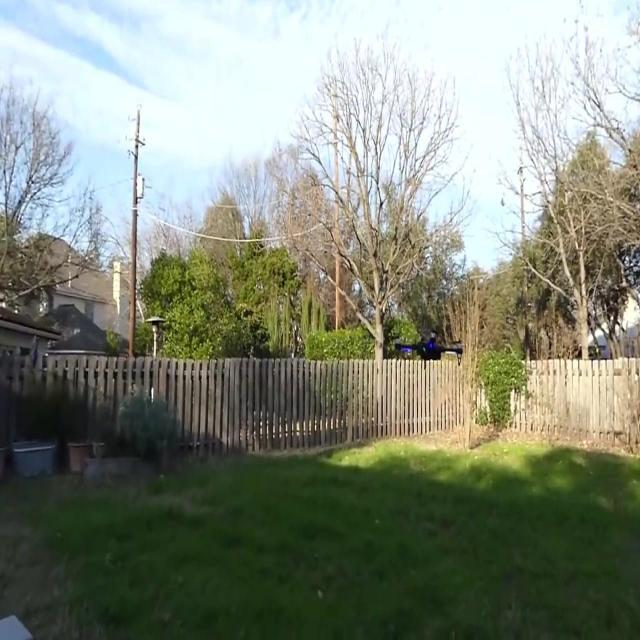UAV: (394, 330, 464, 370)
